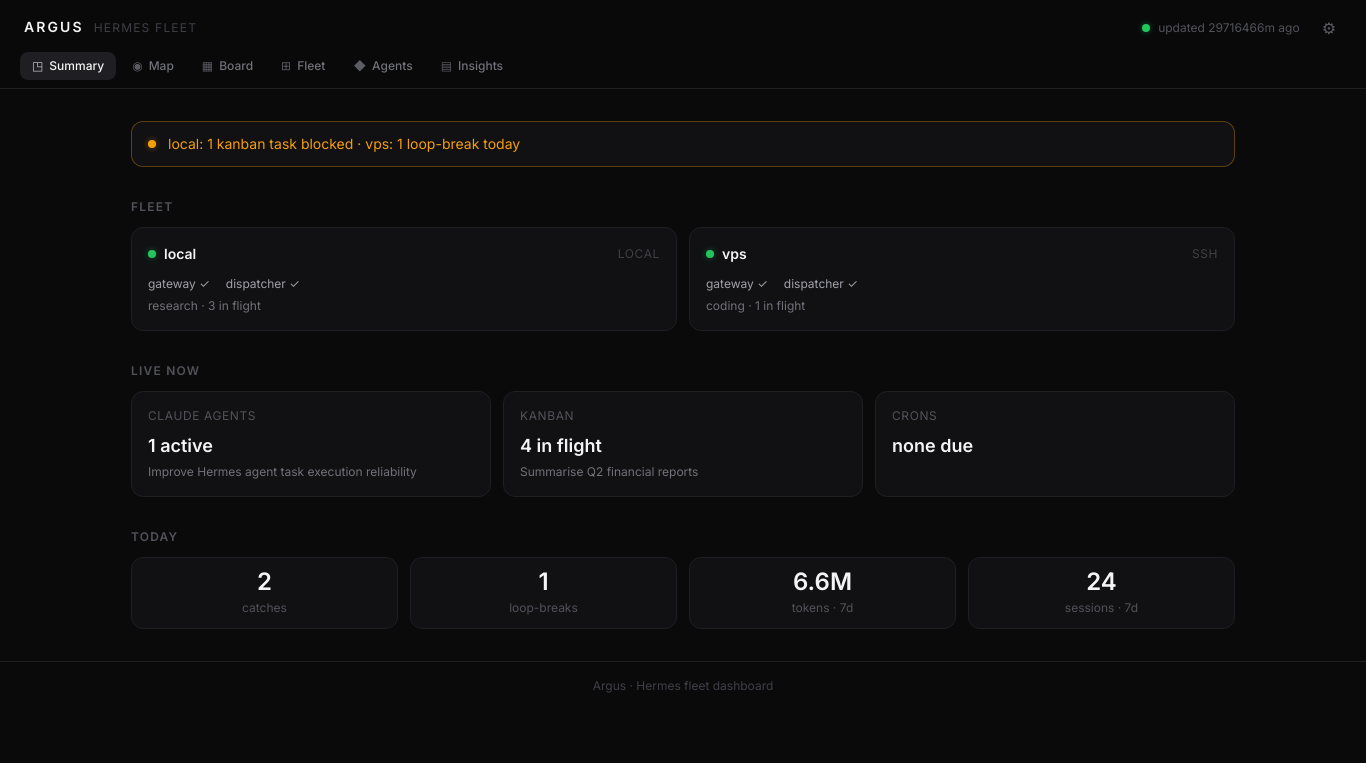
Test: App tabbed navigation › switches to the Insights tab
Click the tab "▤ Insights": [472, 66] box [429,52,515,80]
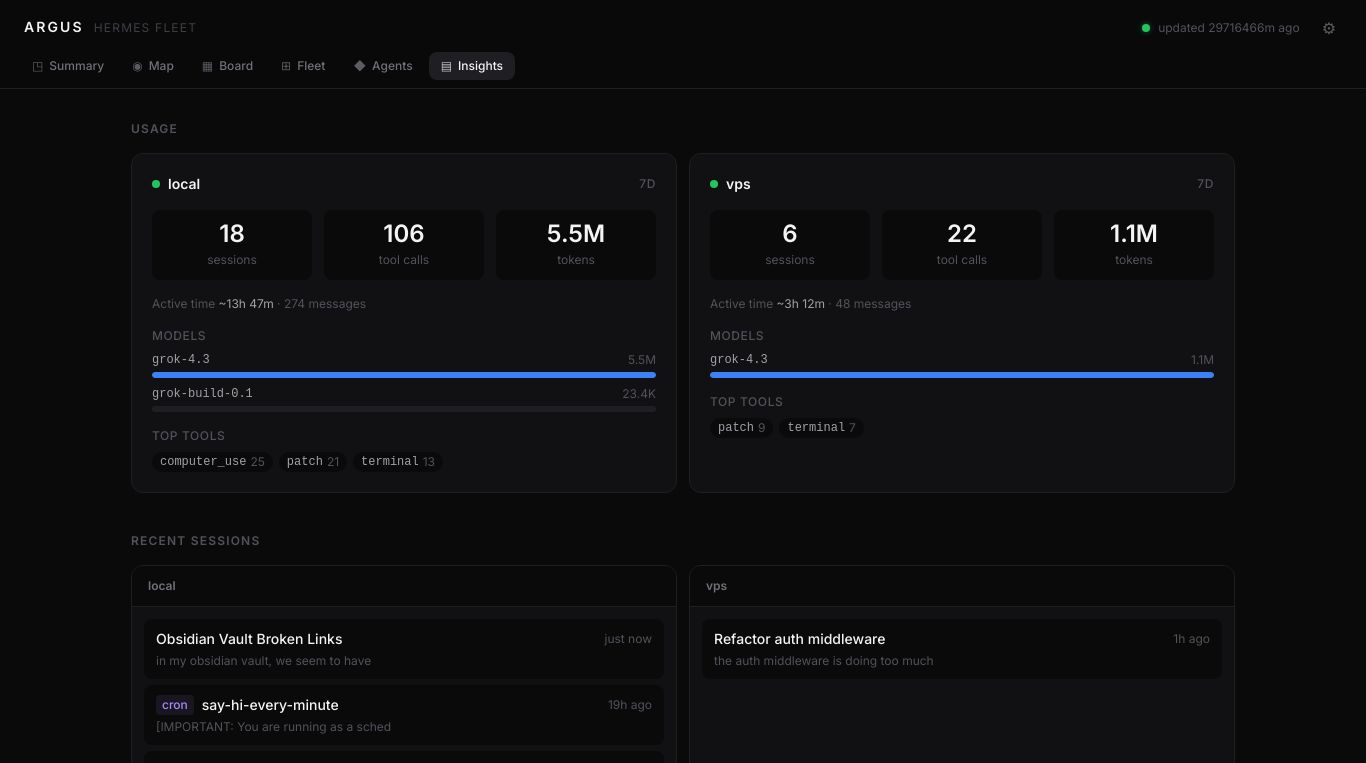
Expected: the heading "Usage" is shown, [131,121,178,136]
Expected: the heading "Recent Sessions" is shown, [131,533,260,548]
